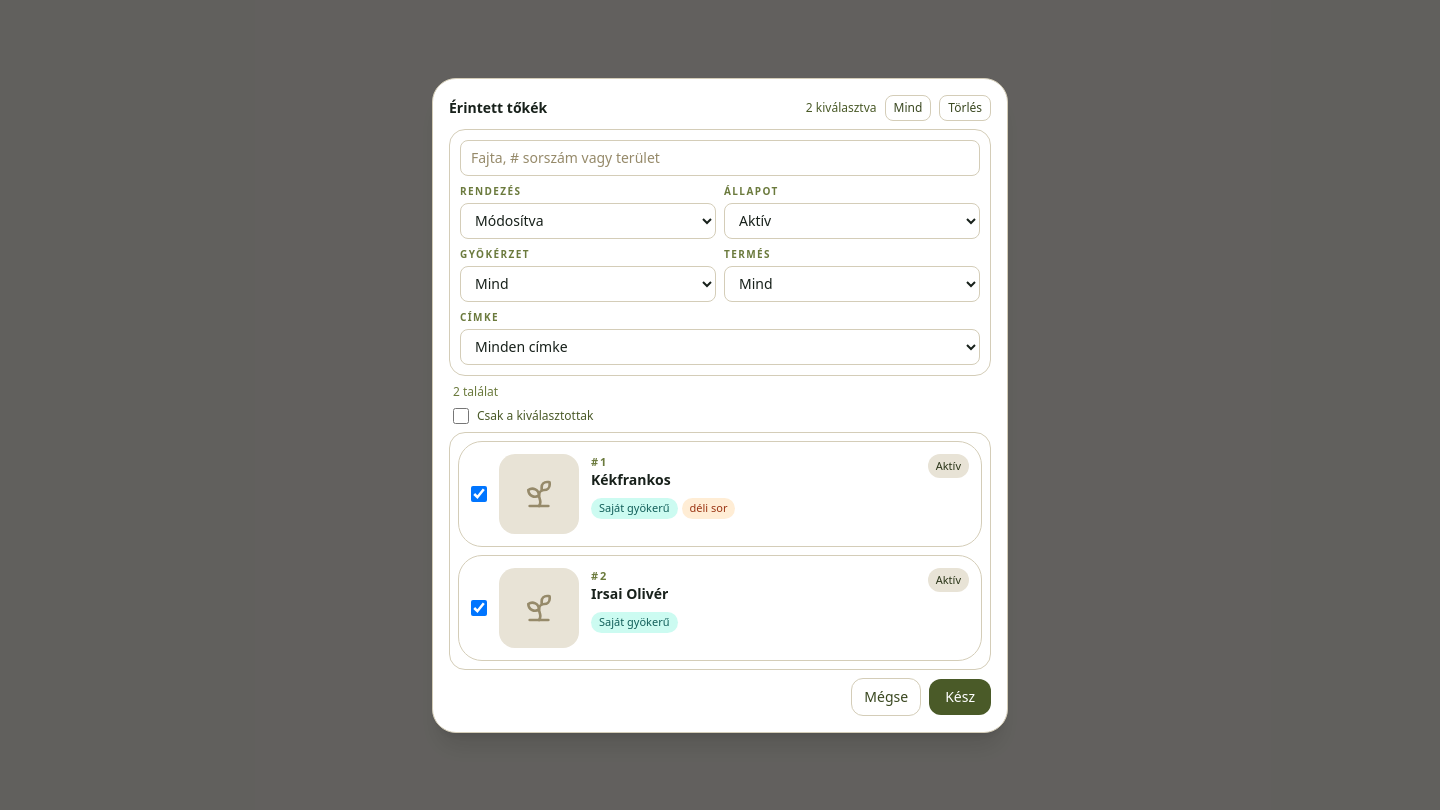
Test: VineTargetPickerDialog › a `Törlés` a teljes kijelölést üríti, a szűrőket nem állítja vissza
This screenshot has width=1440, height=810.
Select "Megszűnt" in the dropdown labelled "Állapot" at (852, 220), box [724, 202, 980, 238]
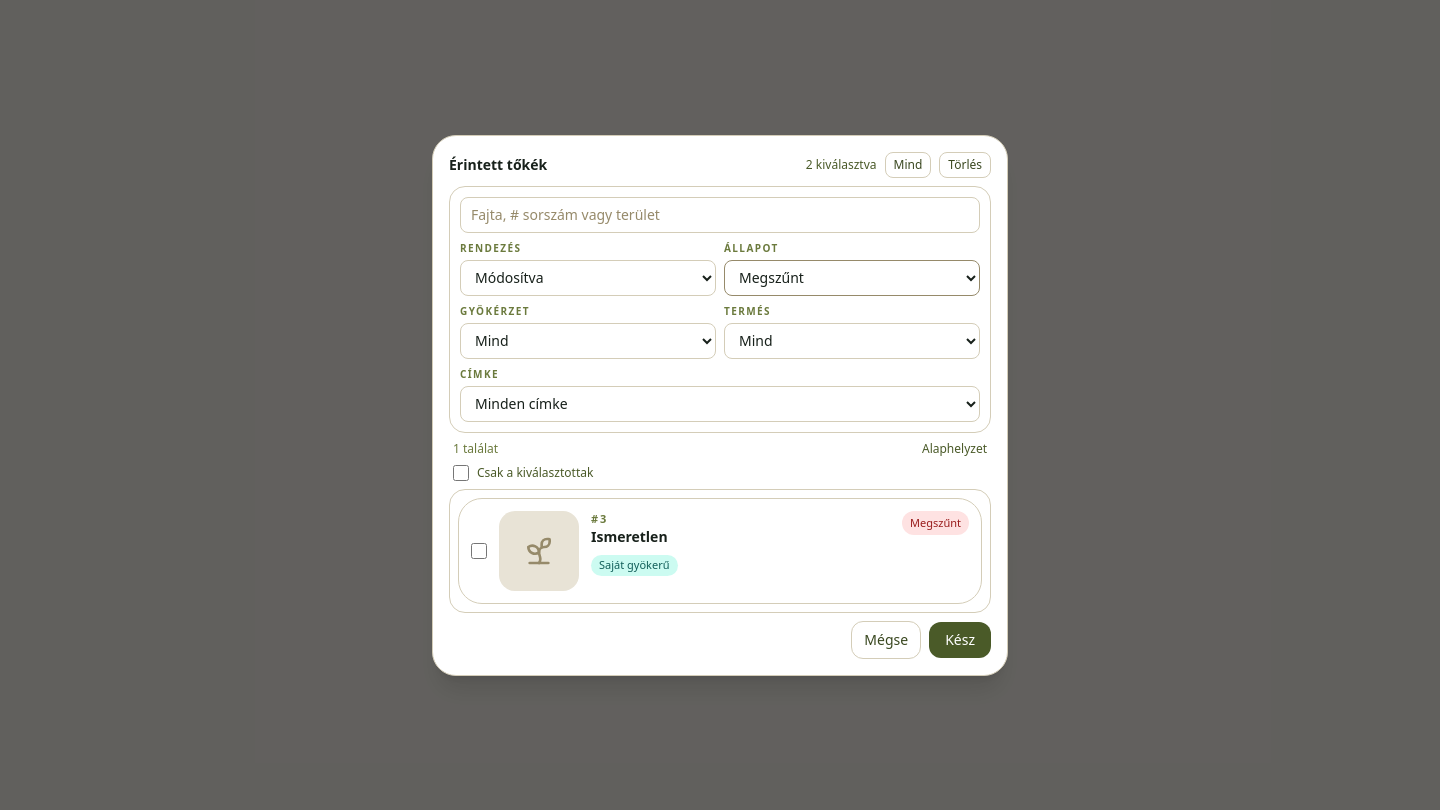
Click the button "Törlés" at (965, 164), box [939, 152, 991, 178]
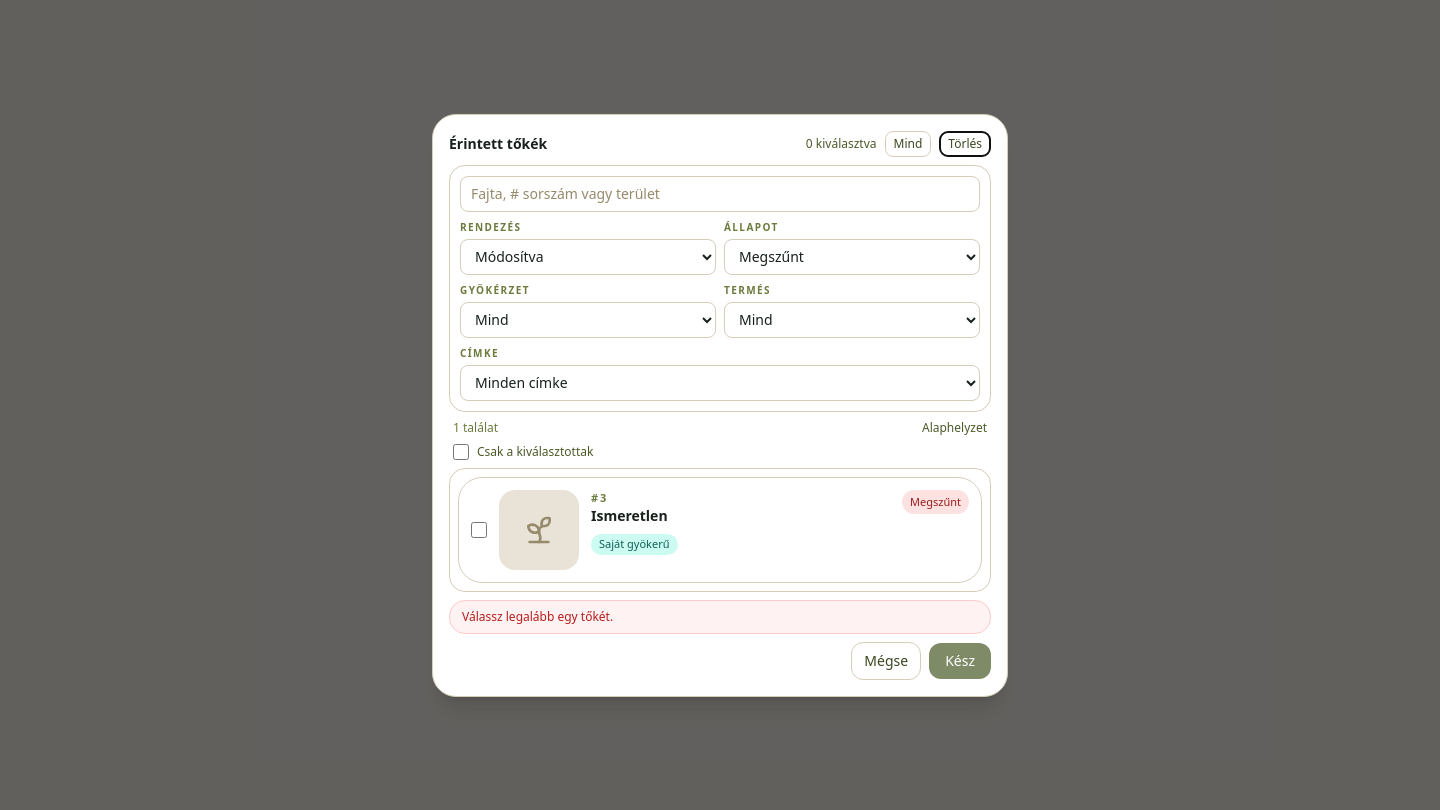
Check: the text "0 kiválasztva" is shown, box [806, 136, 876, 152]
